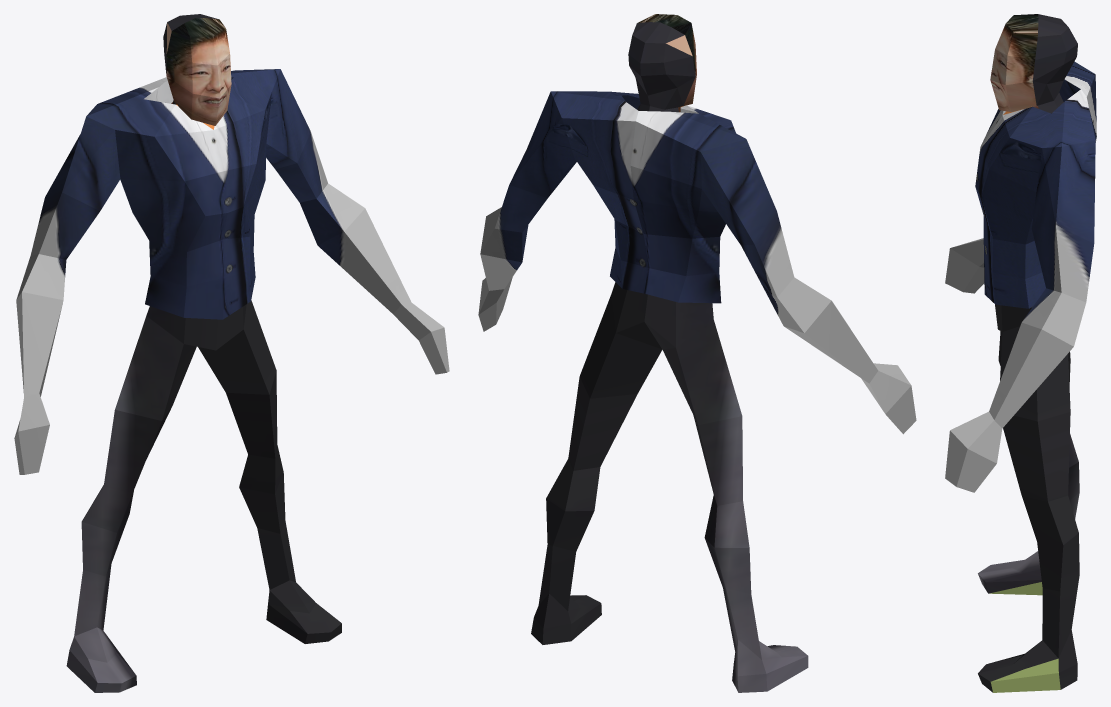
Rendered from pawnshopper.fbx.
3 renders of one model, left to right at view 1: azimuth 30°, elevation 25°; view 2: azimuth 150°, elevation 25°; view 3: azimuth 270°, elevation 25°, orthographic. The views are drawn at different scales.
Parts seen in each view (by area): view 1: BASE_Low_Poly_Man_Cube.001; view 2: BASE_Low_Poly_Man_Cube.001; view 3: BASE_Low_Poly_Man_Cube.001.
Part boxes in pixels (x1,y1,x2,y2): BASE_Low_Poly_Man_Cube.001: [14, 14, 449, 692]; BASE_Low_Poly_Man_Cube.001: [478, 14, 916, 692]; BASE_Low_Poly_Man_Cube.001: [945, 14, 1096, 692].
Size of the model in its own units: 385 by 542 by 121.
